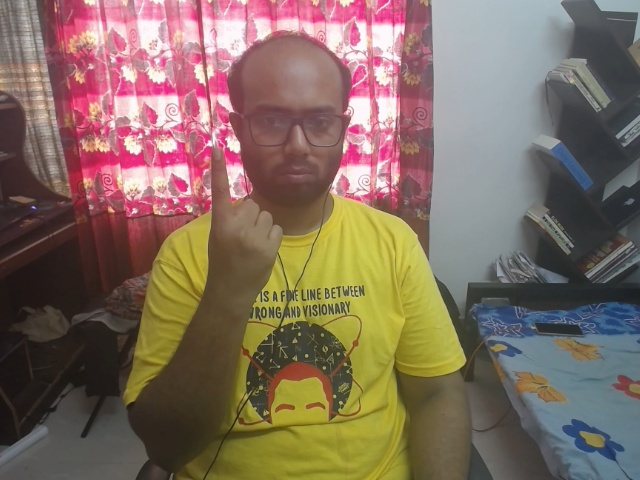one: (181, 138, 315, 329)
